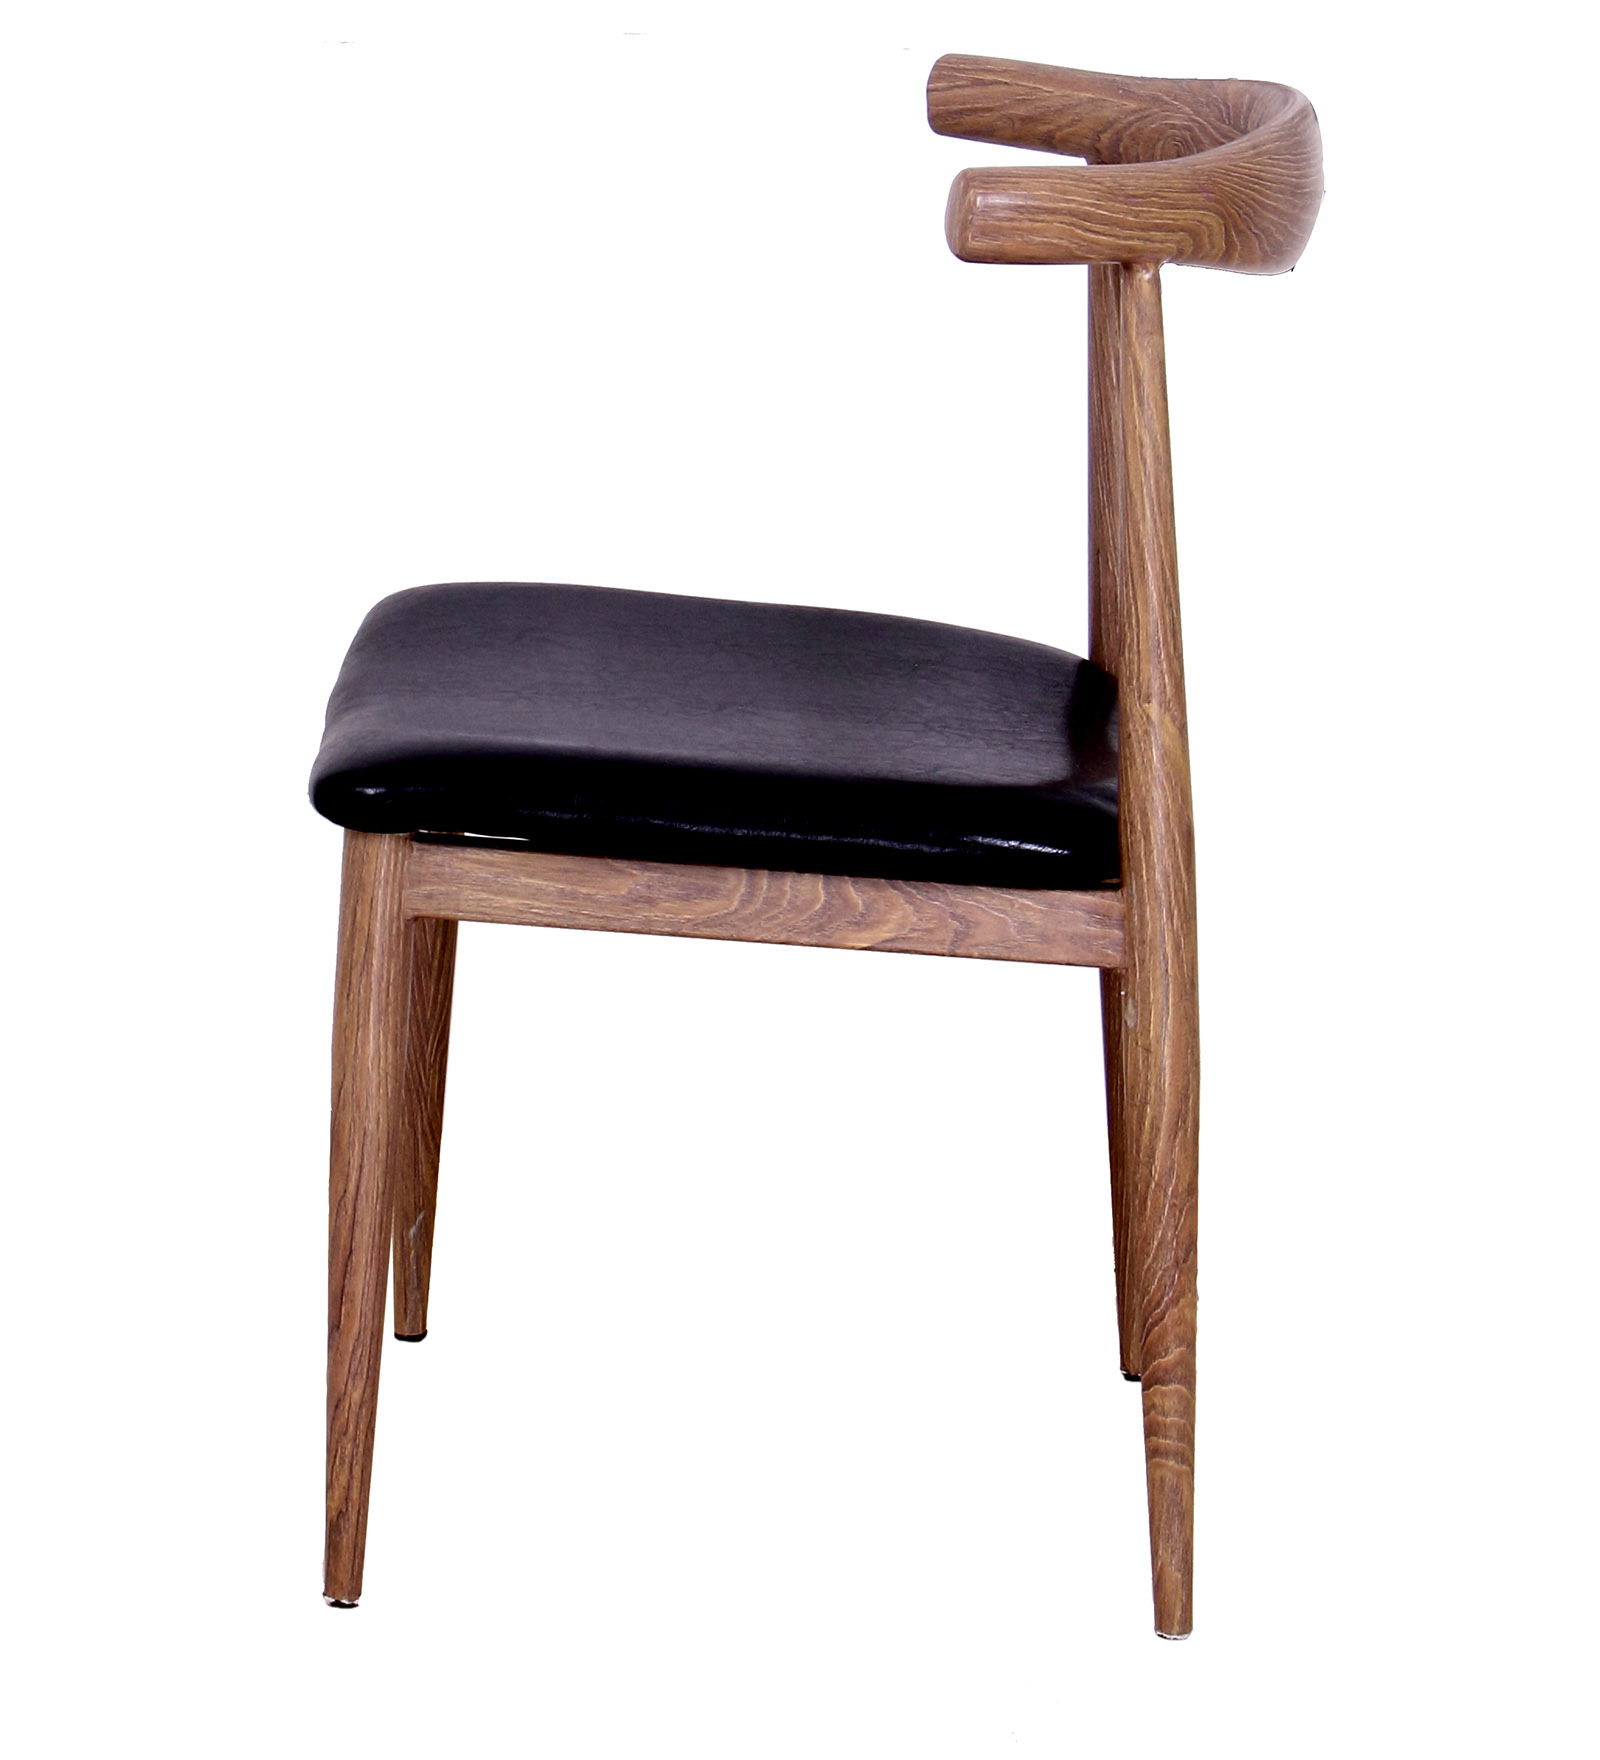Sherman Metal Chair (Set of 2) in Wooden Finish by Bohemiana: (179, 41, 1390, 1673)
